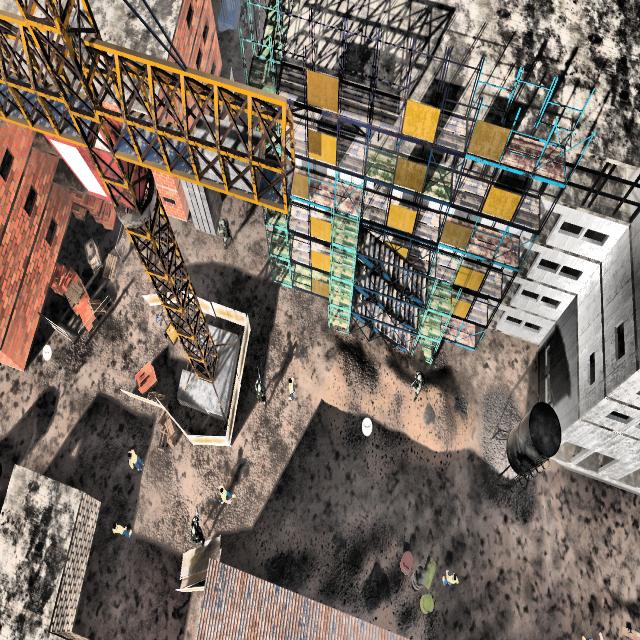bad: (404, 361, 431, 407), (184, 508, 209, 551), (252, 366, 273, 413), (216, 211, 236, 251)
good: (124, 441, 144, 484), (212, 478, 236, 512), (107, 516, 135, 543), (442, 566, 461, 590), (284, 373, 296, 405)
